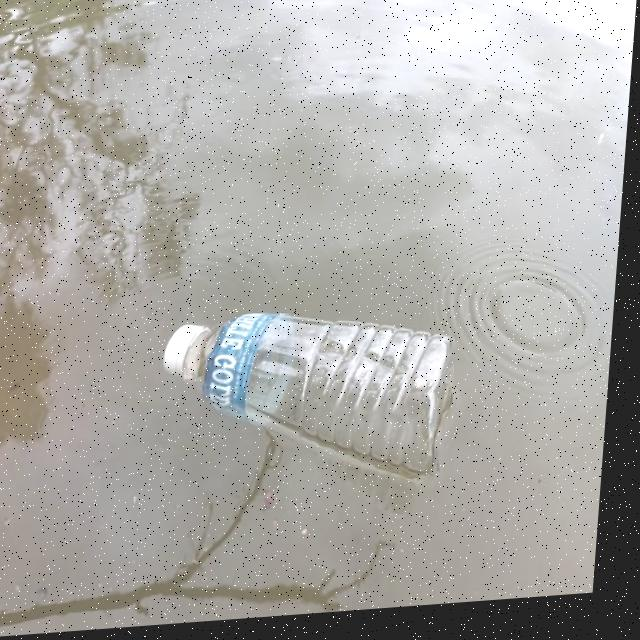waterbottle: (163, 305, 469, 495)
